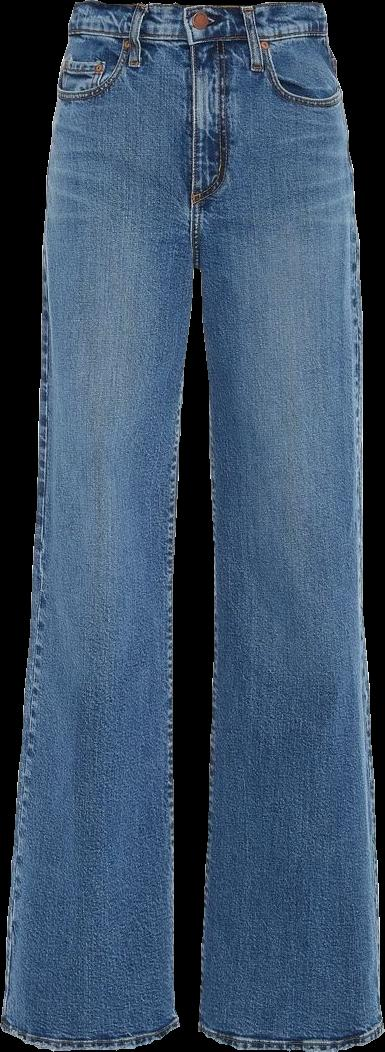Hemline: (0, 1016, 177, 1051), (199, 1018, 384, 1051)
Pantleg: (189, 3, 383, 1051), (1, 2, 195, 1050)
Waistline: (66, 20, 326, 47), (75, 0, 325, 17)
